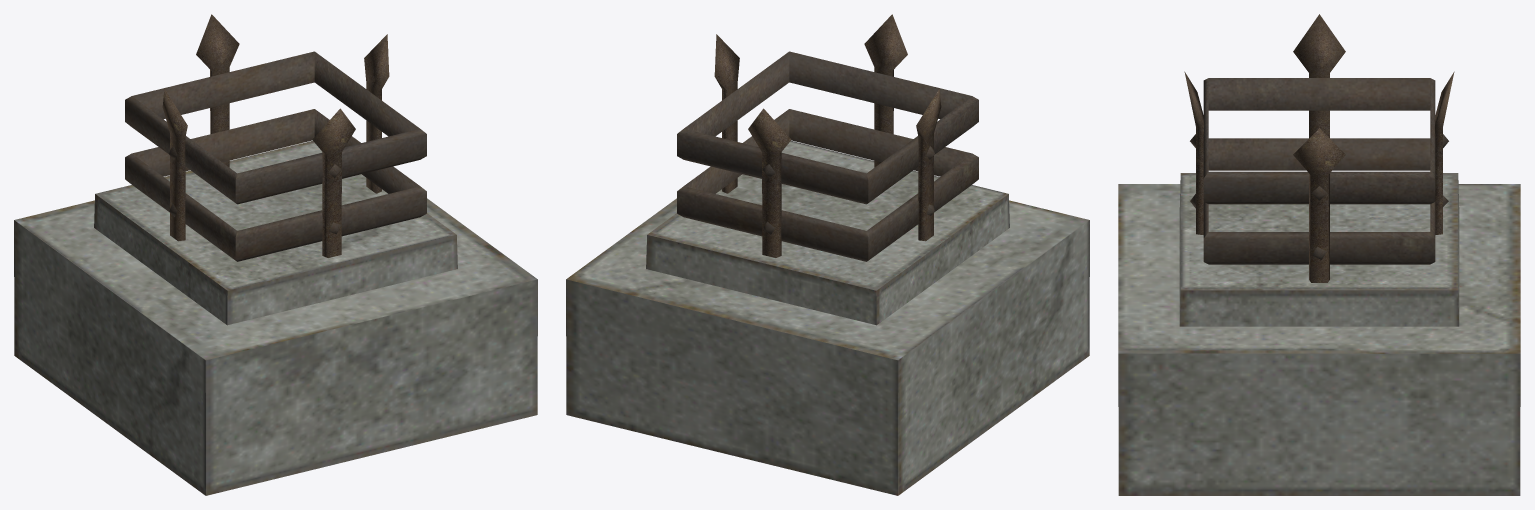
Rendered from plinth_fire_med.fbx.
3 renders of one model, left to right at view 1: azimuth 30°, elevation 25°; view 2: azimuth 150°, elevation 25°; view 3: azimuth 270°, elevation 25°, orthographic. The views are drawn at different scales.
Visible parts, largest first — view 1: plinth_fire_med; view 2: plinth_fire_med; view 3: plinth_fire_med.
Boxes of the visible parts, x1=… form: plinth_fire_med: x1=14, y1=14, x2=537, y2=495; plinth_fire_med: x1=566, y1=14, x2=1089, y2=495; plinth_fire_med: x1=1118, y1=14, x2=1520, y2=495.
Size of the model in its own units: 39.93 by 37.25 by 39.93.
